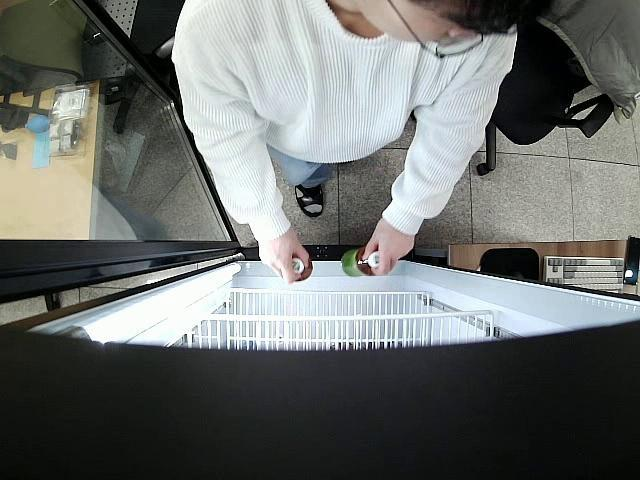19_17cha: (342, 246, 379, 278), (292, 255, 312, 282)
